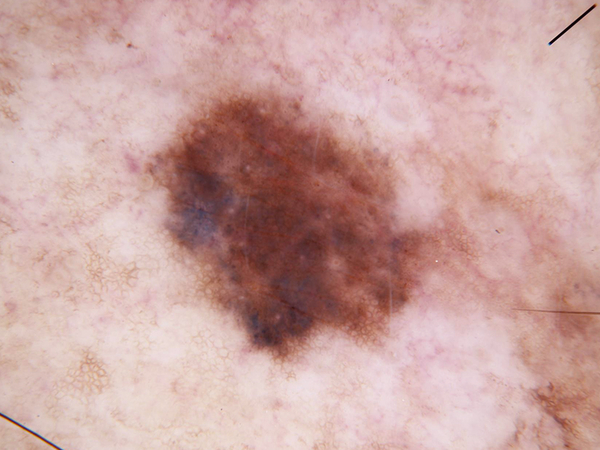Color changes: (212, 274, 253, 307)
